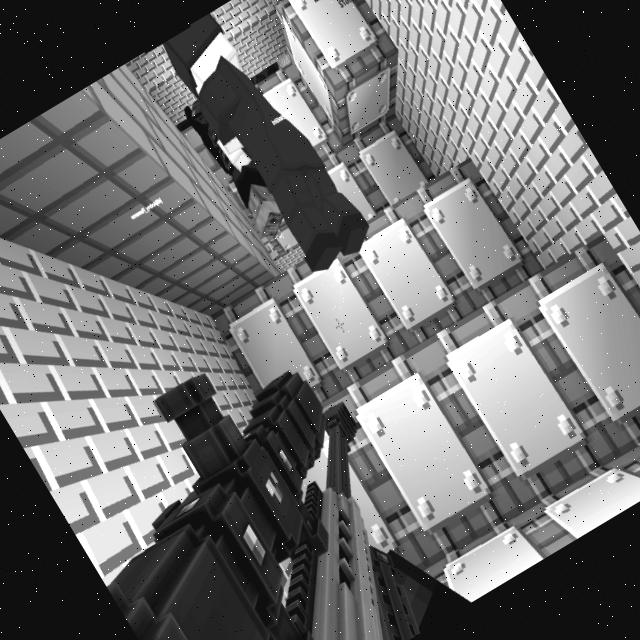Head: (158, 11, 248, 102)
Player: (149, 0, 380, 292)
